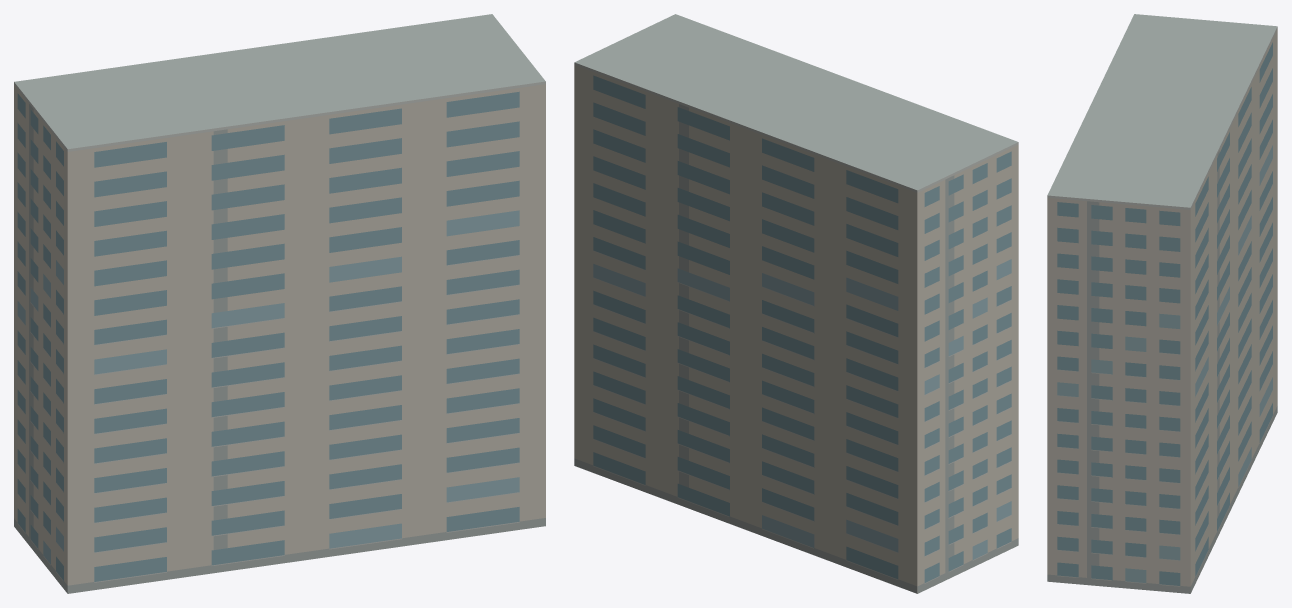
Rendered from residential-f451ae72-c1a9-4bae-9329-3f0144e249ad.glb.
The picture shows the model from 3 angles, left to right: view 1: azimuth 30°, elevation 25°; view 2: azimuth 150°, elevation 25°; view 3: azimuth 270°, elevation 25°; orthographic projection. The views are drawn at different scales.
Visible parts, largest first — view 1: residential-f451ae72-c1a9-4bae-9329-3f0144e249ad.tmp; view 2: residential-f451ae72-c1a9-4bae-9329-3f0144e249ad.tmp; view 3: residential-f451ae72-c1a9-4bae-9329-3f0144e249ad.tmp.
Part boxes in pixels (<box>): residential-f451ae72-c1a9-4bae-9329-3f0144e249ad.tmp: <box>14,14,545,593</box>; residential-f451ae72-c1a9-4bae-9329-3f0144e249ad.tmp: <box>574,14,1018,593</box>; residential-f451ae72-c1a9-4bae-9329-3f0144e249ad.tmp: <box>1047,14,1277,593</box>.
Size of the model in its own units: 43.04 by 40 by 21.63.
